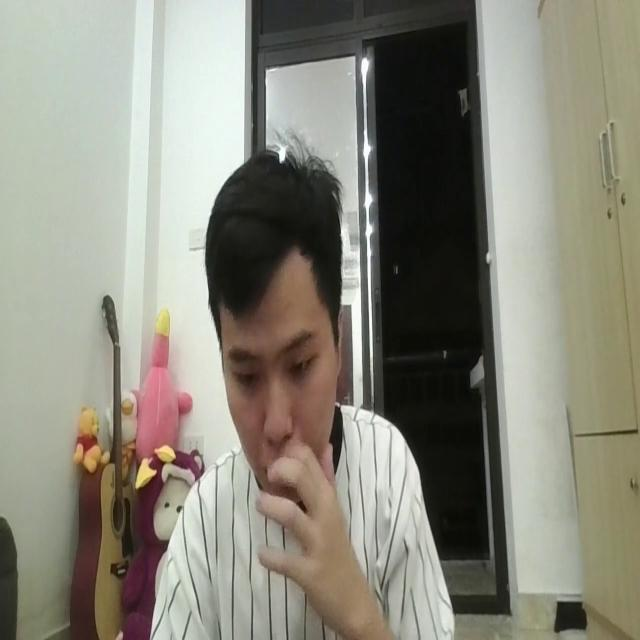student: (154, 138, 456, 640)
